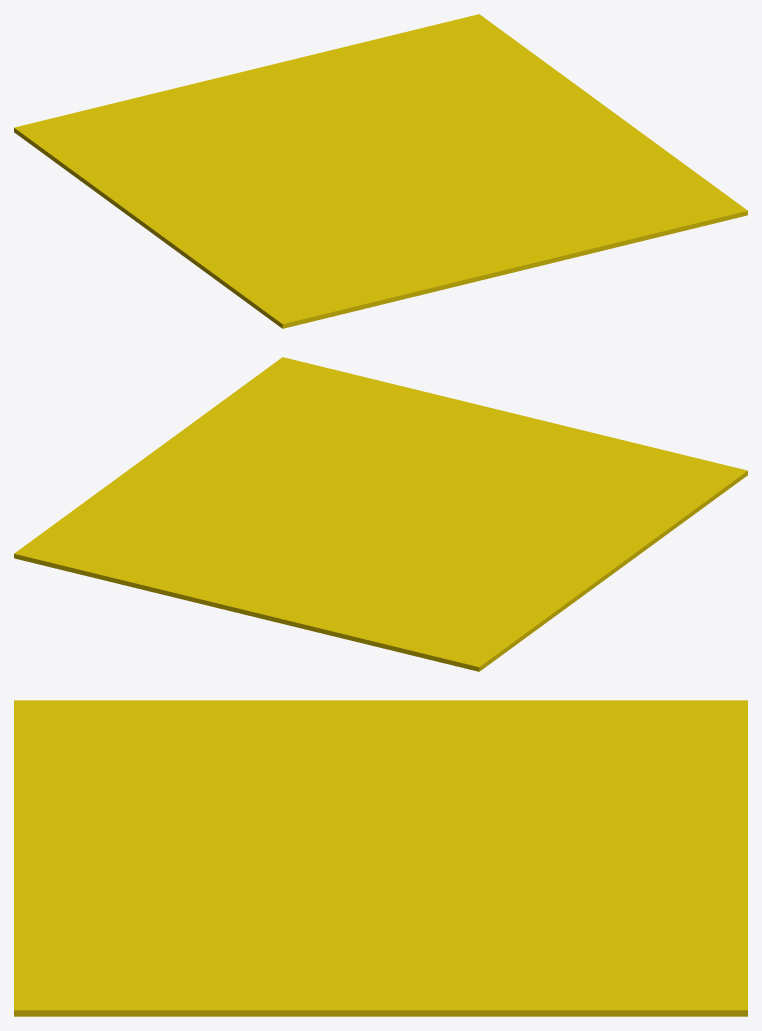
Rendered from glassplatform.fbx.
The picture shows the model from 3 angles, top to bottom: view 1: azimuth 30°, elevation 25°; view 2: azimuth 150°, elevation 25°; view 3: azimuth 270°, elevation 25°; orthographic projection. The views are drawn at different scales.
Visible parts, largest first — view 1: Cube.001, Cube.007, Cube.006, Cube.005, Cube.009, Cube.004, Cube.008, Cube.002, Cube.011, Cube.016, Cube.013, Cube.012 (+5 smaller); view 2: Cube.001, Cube.007, Cube.006, Cube.005, Cube.009, Cube.004, Cube.008, Cube.011, Cube.013, Cube.016, Cube.002, Cube.012 (+4 smaller); view 3: Cube.001, Cube.007, Cube.006, Cube.005, Cube.009, Cube.008, Cube.004, Cube.013, Cube.016, Cube.011, Cube.002, Cube.012 (+4 smaller).
Boxes of the visible parts, x1,y1,x2,y2 form: Cube.001: (278, 183, 592, 290); Cube.007: (334, 98, 659, 193); Cube.006: (277, 140, 502, 259); Cube.005: (103, 193, 315, 262); Cube.009: (14, 90, 194, 170); Cube.004: (193, 258, 437, 328); Cube.008: (491, 79, 660, 193); Cube.002: (504, 183, 670, 252); Cube.011: (169, 52, 323, 169); Cube.016: (195, 127, 333, 197); Cube.013: (358, 14, 523, 99); Cube.012: (232, 33, 401, 126); Cube.001: (348, 395, 618, 504); Cube.007: (181, 397, 348, 543); Cube.006: (346, 460, 617, 543); Cube.005: (471, 504, 658, 605); Cube.009: (324, 580, 523, 671); Cube.004: (593, 433, 747, 540); Cube.008: (104, 397, 291, 506); Cube.011: (169, 580, 475, 633); Cube.013: (14, 521, 250, 577); Cube.016: (346, 522, 476, 587); Cube.002: (292, 376, 436, 460); Cube.012: (91, 555, 368, 595); Cube.001: (14, 741, 258, 906); Cube.007: (121, 851, 503, 977); Cube.006: (198, 741, 492, 906); Cube.005: (198, 700, 502, 803); Cube.009: (505, 700, 747, 803); Cube.008: (121, 958, 503, 1016); Cube.004: (14, 700, 257, 803); Cube.013: (590, 891, 747, 1016); Cube.016: (346, 761, 599, 850); Cube.011: (506, 761, 747, 906); Cube.002: (14, 907, 257, 977); Cube.012: (590, 809, 747, 958).
Size of the model in its own units: 1633 by 15.53 by 1633.
